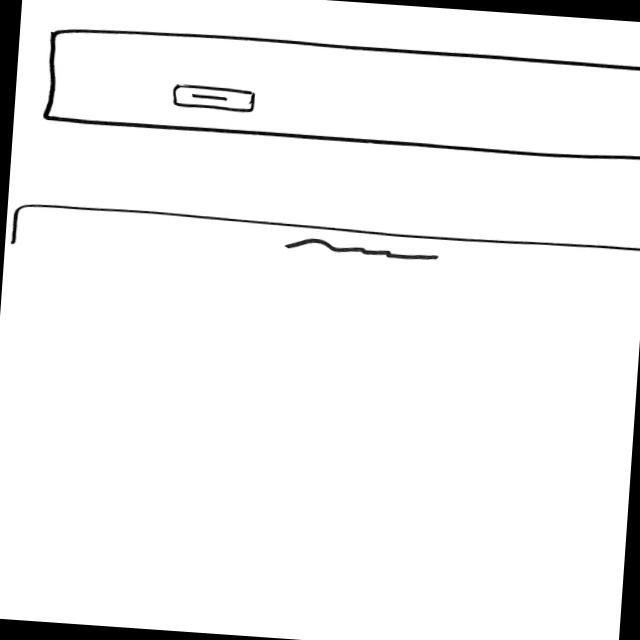container: (38, 22, 640, 163)
icon-button: (170, 81, 258, 114)
text: (279, 235, 442, 264)
